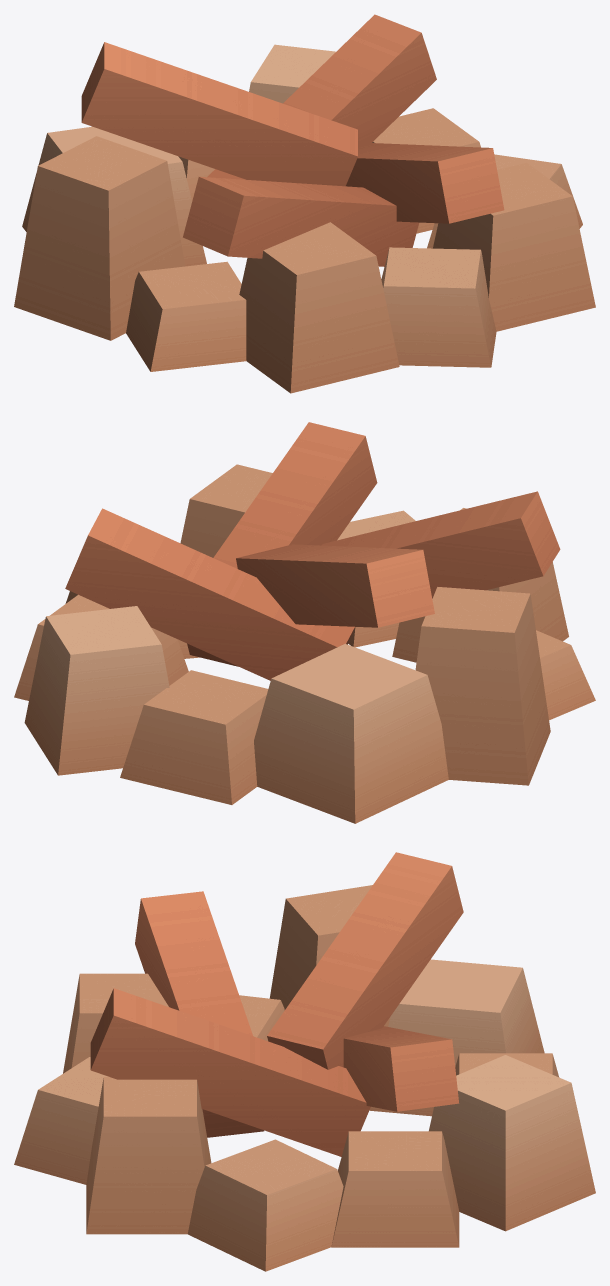
File: campfire-pit.glb
3 renders of one model, top to bottom at view 1: azimuth 30°, elevation 25°; view 2: azimuth 150°, elevation 25°; view 3: azimuth 270°, elevation 25°, orthographic. The views are drawn at different scales.
Parts seen in each view (by area): view 1: campfire-pit, wood; view 2: campfire-pit, wood; view 3: campfire-pit, wood.
Part boxes in pixels (x1,y1,x2,y2): campfire-pit: (14,44,595,393); wood: (81,14,504,266); campfire-pit: (14,464,595,823); wood: (65,422,560,680); campfire-pit: (14,885,595,1271); wood: (90,852,463,1156).
Bounding box in the file's own units: 0.2778 × 0.1091 × 0.2692.
Materials: 1 (1 with a texture image).
